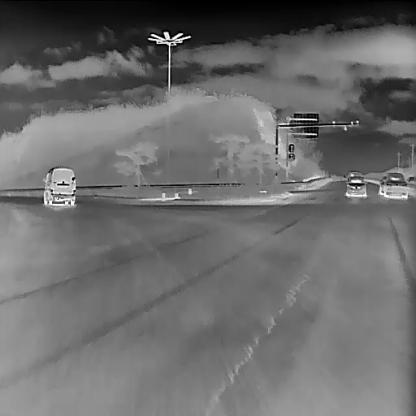car: (42, 166, 75, 206), (384, 172, 408, 198), (345, 171, 366, 198), (378, 176, 386, 196)
